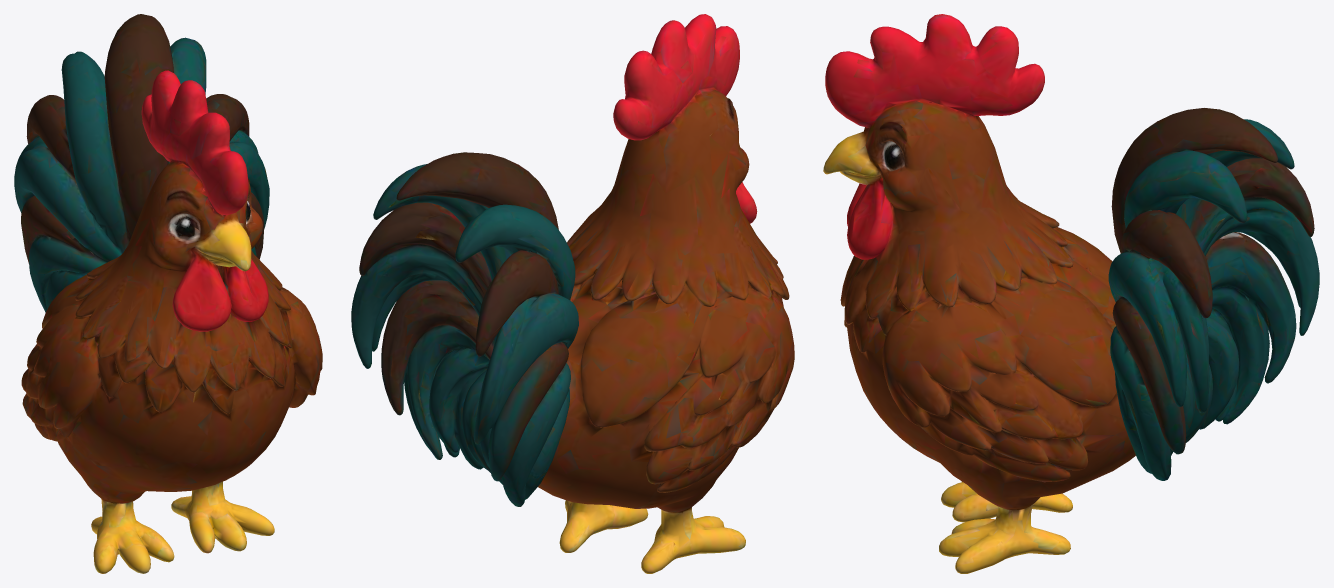
3 renders of one model, left to right at view 1: azimuth 30°, elevation 25°; view 2: azimuth 150°, elevation 25°; view 3: azimuth 270°, elevation 25°, orthographic. The views are drawn at different scales.
Bounding box in the file's own units: 1.29 × 1.9 × 1.66.
1 material, 1 textured.
